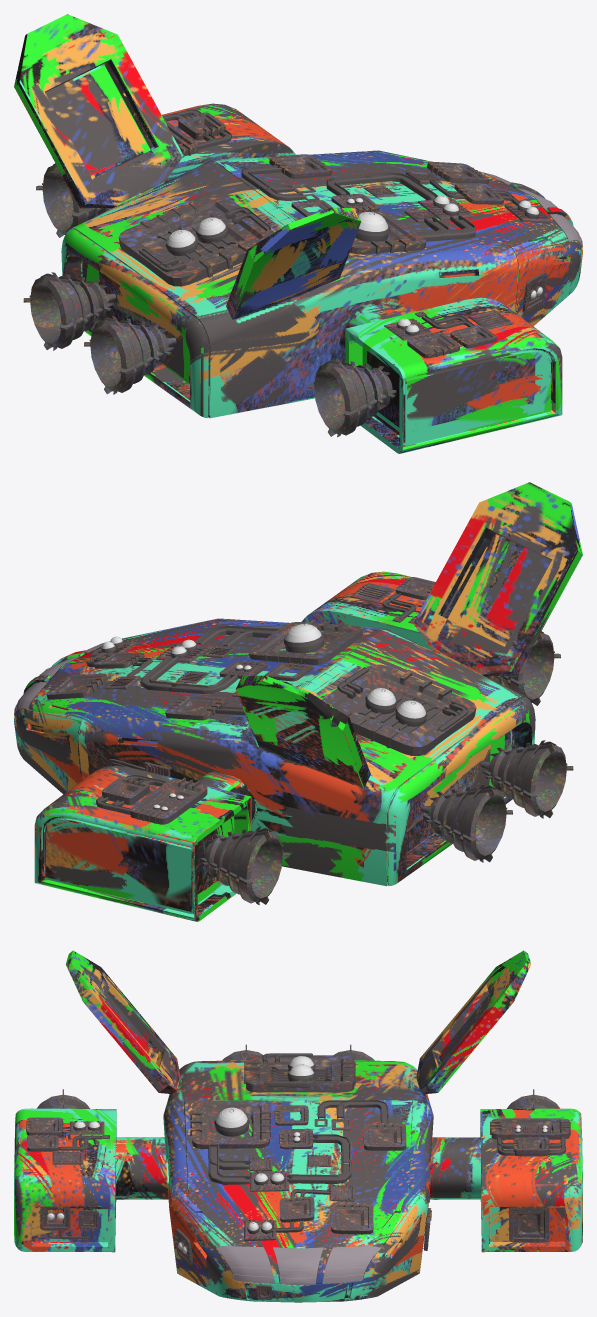
Rendered from NAVE completa3.fbx.
The picture shows the model from 3 angles, top to bottom: view 1: azimuth 30°, elevation 25°; view 2: azimuth 150°, elevation 25°; view 3: azimuth 270°, elevation 25°; orthographic projection. The views are drawn at different scales.
Parts seen in each view (by area): view 1: Cube.010, Cube.065, Cylinder.001, Cylinder.003, Cylinder.002, Cylinder.004, Cube.039, Cube.049, Cube.066, Cube.054, Cube.072, Cube.075 (+7 smaller); view 2: Cube.010, Cube.065, Cylinder.003, Cylinder.001, Cylinder.004, Cube.039, Cylinder.002, Cube.074, Cube.049, Cube.072, Cube.066, Cube.059 (+7 smaller); view 3: Cube.010, Cube.039, Cube.065, Cube.086, Cube.072, Cube.074, Cube.049, Cube.067, Cube.059, Cube.047, Cube.075, Cube.054 (+13 smaller).
Part boxes in pixels (x1,y1,x2,y2): Cube.010: (14,14,582,453); Cube.065: (118,194,274,286); Cylinder.001: (23,272,116,350); Cylinder.003: (84,316,176,394); Cylinder.002: (307,358,396,437); Cylinder.004: (36,163,112,237); Cube.039: (350,210,426,254); Cube.049: (269,154,331,178); Cube.066: (153,216,241,263); Cube.054: (407,332,459,358); Cube.072: (427,161,488,184); Cube.075: (178,112,225,139); Cube.010: (14,482,582,921); Cube.065: (322,664,476,755); Cylinder.003: (480,740,573,818); Cylinder.001: (420,784,512,862); Cylinder.004: (200,826,289,905); Cube.039: (248,620,362,664); Cylinder.002: (484,631,560,705); Cube.074: (130,777,207,824); Cube.049: (165,695,227,720); Cube.072: (46,673,107,699); Cube.066: (351,687,440,734); Cube.059: (283,624,324,653); Cube.010: (14,950,582,1302); Cube.039: (190,1100,270,1148); Cube.065: (244,1055,355,1092); Cube.086: (509,1206,549,1243); Cube.072: (330,1201,373,1234); Cube.074: (490,1118,570,1139); Cube.049: (363,1122,406,1150); Cube.067: (279,1195,314,1222); Cube.059: (214,1107,249,1136); Cube.047: (287,1160,351,1183); Cube.075: (513,1137,549,1156); Cube.054: (26,1117,63,1136).
Bounding box in the file's own units: 8947 × 4315 × 10399.
